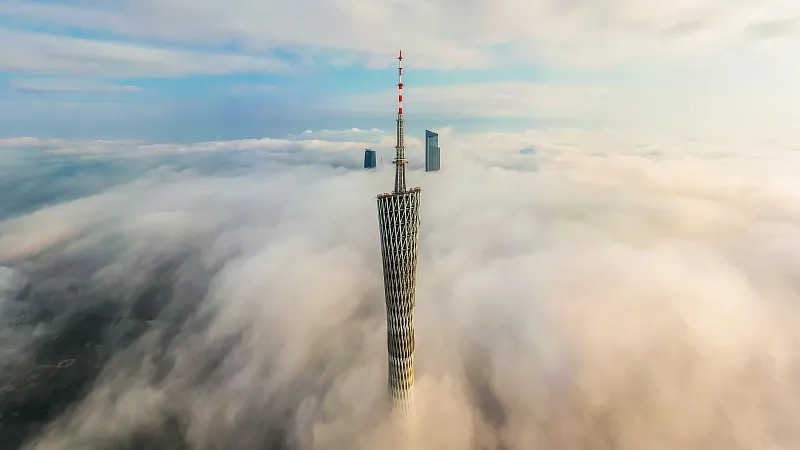Canton: (374, 48, 425, 426)
